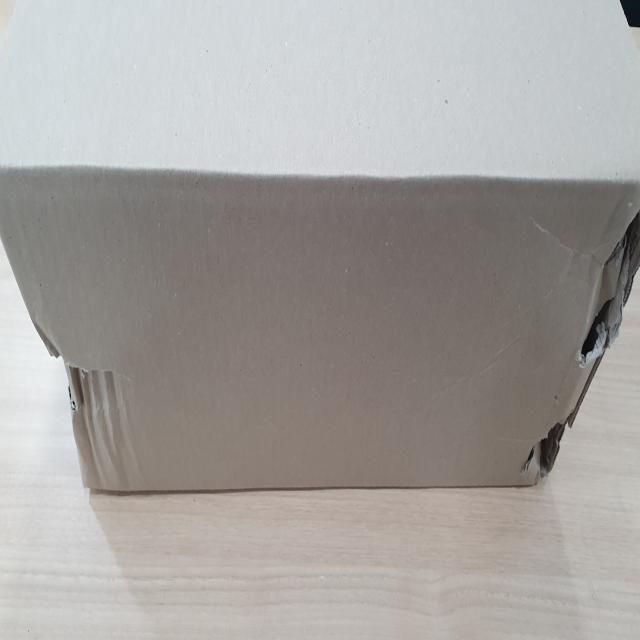hole: (42, 320, 143, 455), (573, 287, 617, 369), (524, 415, 575, 485)
